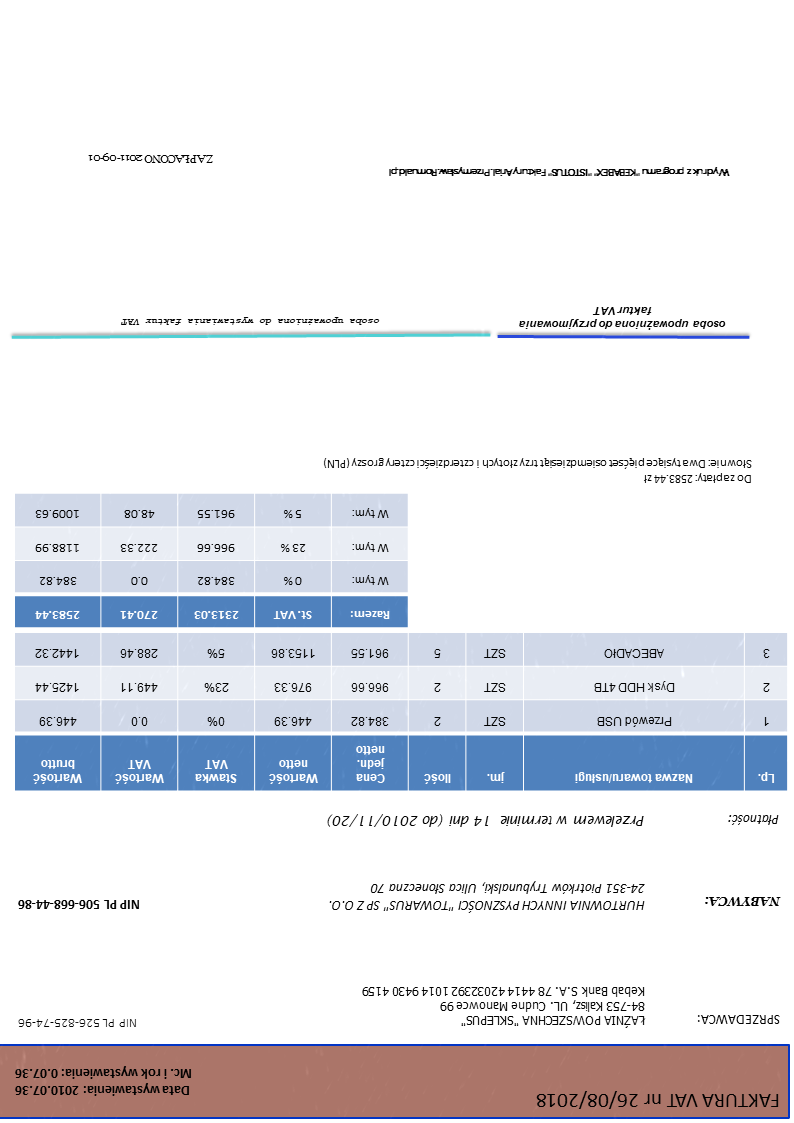Table: (13, 631, 789, 793), (13, 492, 410, 629)
TextBox: (321, 455, 754, 488), (359, 984, 648, 1031), (327, 881, 648, 915), (11, 1065, 195, 1099), (515, 304, 727, 331), (534, 1088, 782, 1111), (386, 165, 733, 180), (324, 813, 646, 829), (118, 315, 383, 329), (15, 896, 143, 913), (85, 151, 216, 167), (15, 1015, 139, 1031), (695, 1013, 783, 1029), (701, 894, 783, 910), (727, 813, 782, 828)
